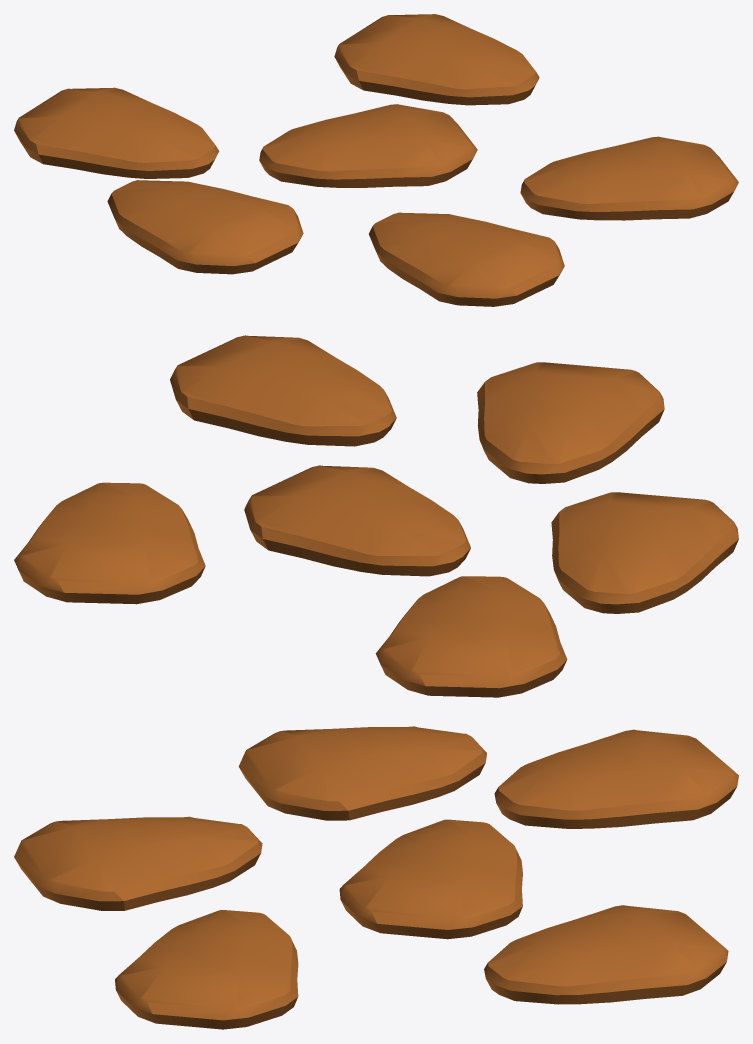
The model's file is Brown2_seed.fbx.
3 views of the same model, one above another, from view 1: azimuth 30°, elevation 25°; view 2: azimuth 150°, elevation 25°; view 3: azimuth 270°, elevation 25° (orthographic). The views are drawn at different scales.
Visible parts, largest first — view 1: seed1.006, seed1.005, seed1.007, seed1.004, seed1.008, seed1.003; view 2: seed1.005, seed1.006, seed1.003, seed1.008, seed1.004, seed1.007; view 3: seed1.008, seed1.003, seed1.007, seed1.004, seed1.006, seed1.005.
Part boxes in pixels (x1,y1,x2,y2): seed1.006: (520,136,738,220); seed1.005: (259,104,477,187); seed1.007: (334,14,539,105); seed1.004: (14,87,219,178); seed1.008: (369,212,564,306); seed1.003: (107,180,303,274); seed1.005: (244,465,470,576); seed1.006: (170,335,396,446); seed1.003: (551,492,738,613); seed1.008: (477,362,664,483); seed1.004: (375,576,567,697); seed1.007: (14,482,205,604); seed1.008: (14,816,262,910); seed1.003: (238,726,486,820); seed1.007: (484,905,728,1004); seed1.004: (494,729,738,828); seed1.006: (115,910,298,1029); seed1.005: (339,819,522,939).
Bounding box in the file's own units: 114 × 8.72 × 121.
